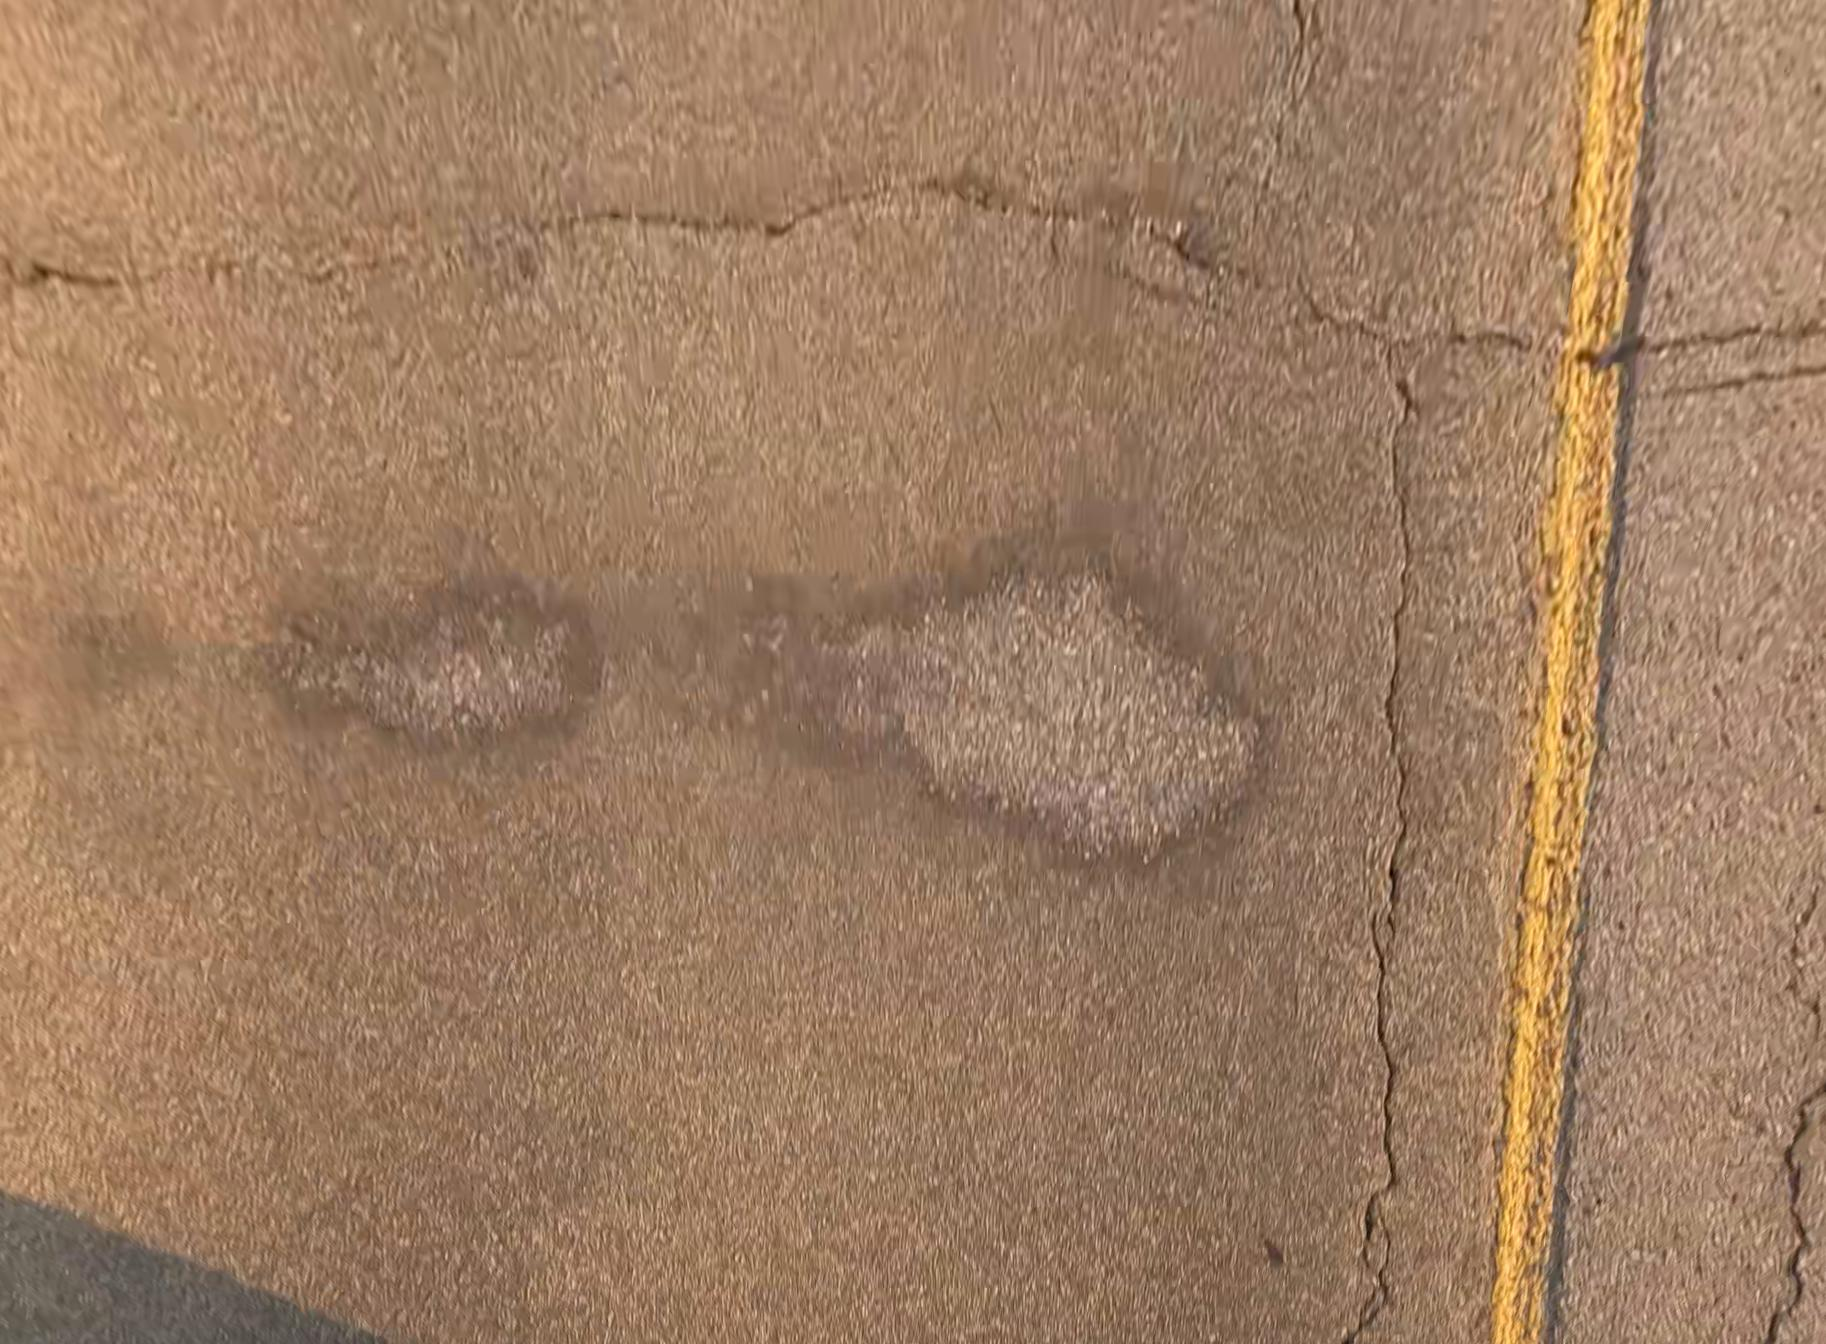pothole_patch_good: (810, 567, 1258, 862), (269, 576, 600, 754)
